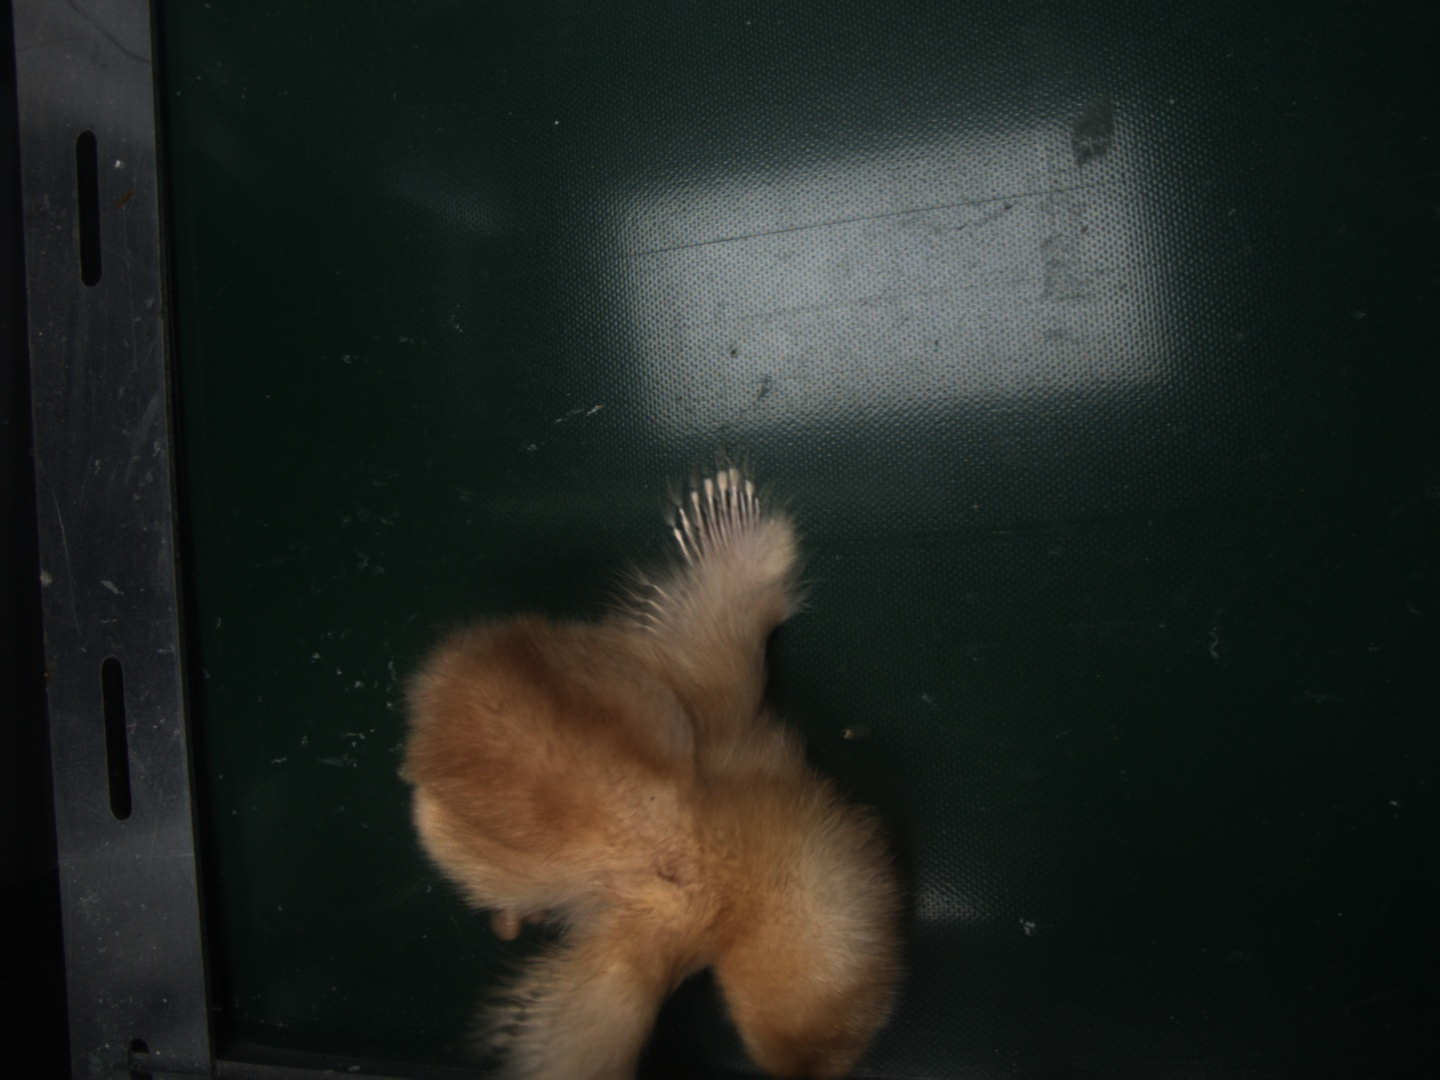female: (669, 469, 763, 575)
